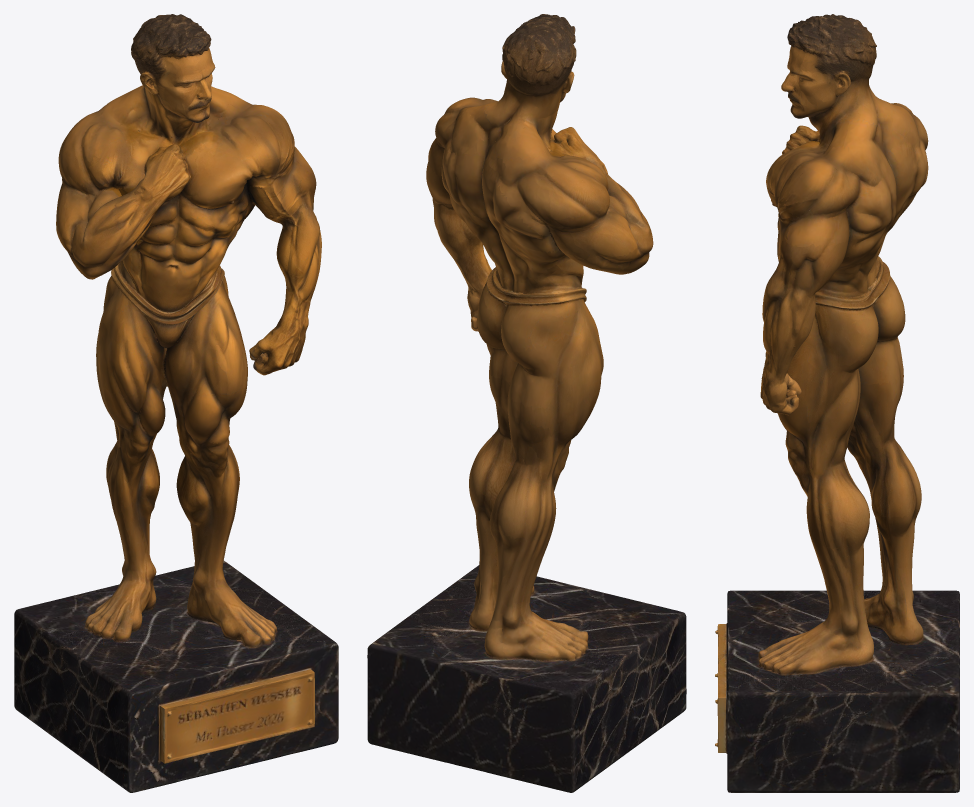
File: avatar-standard.glb
3 renders of one model, left to right at view 1: azimuth 30°, elevation 25°; view 2: azimuth 150°, elevation 25°; view 3: azimuth 270°, elevation 25°, orthographic. The views are drawn at different scales.
Visible parts, largest first — view 1: Mesh_0; view 2: Mesh_0; view 3: Mesh_0.
Boxes of the visible parts, bbox=[...] form: Mesh_0: bbox=[14, 14, 338, 792]; Mesh_0: bbox=[367, 14, 686, 792]; Mesh_0: bbox=[715, 14, 959, 792].
Bounding box in the file's own units: 0.1518 × 0.45 × 0.139.
1 material, 1 textured.
